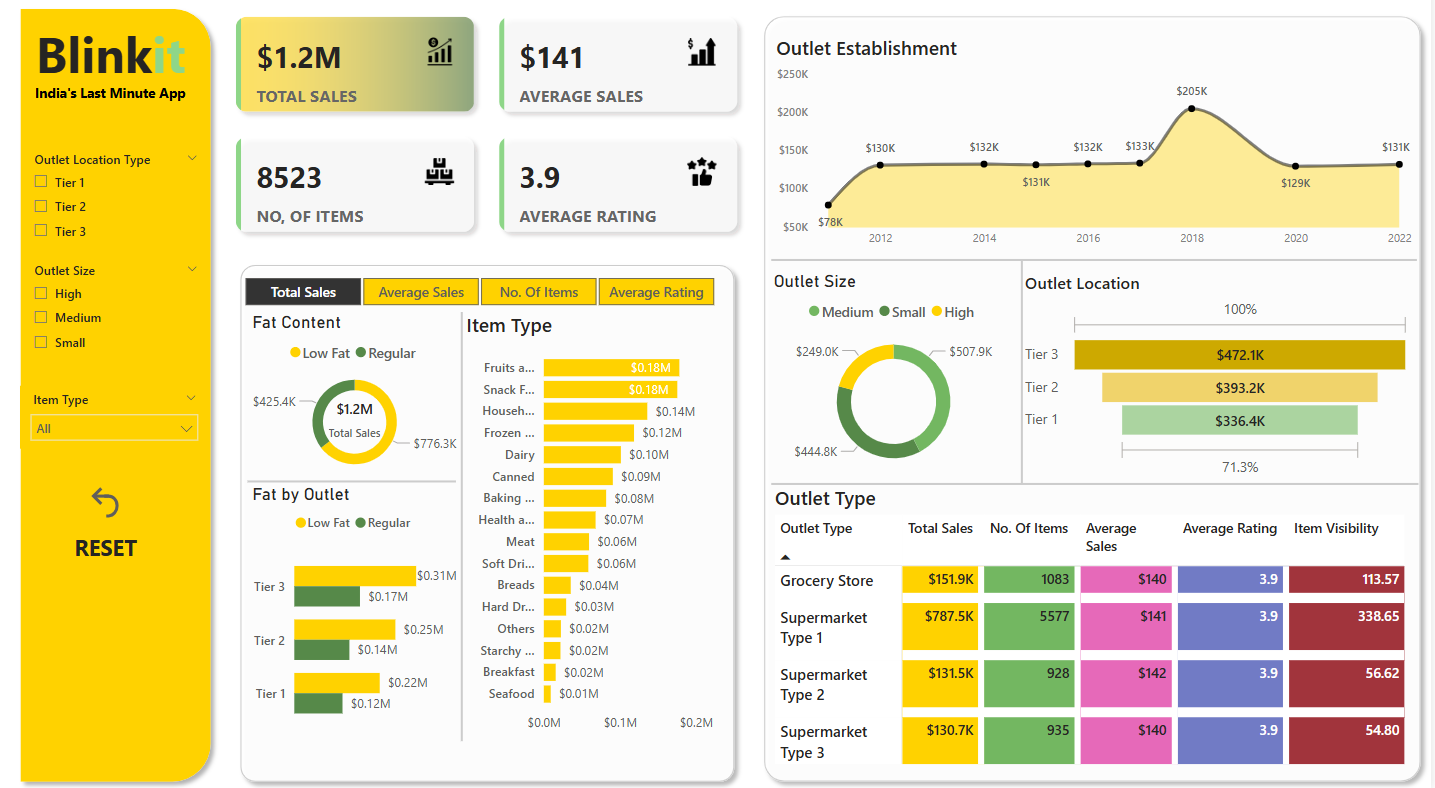

What the dashboard file says about the page in this screenshot:
{"tool":"powerbi","page":{"name":"Page 1","canvas":[1400,801],"ordinal":0},"visuals":[{"type":"shape","box":[10.5,27,204.1,774.4],"z":0},{"type":"textbox","box":[25.5,42,165.1,81],"z":1000},{"type":"textbox","box":[10.5,103.6,193.6,40.5],"z":2000},{"type":"cardVisual","fields":{"Data":["BlinkIT Grocery Data.Total Sales","BlinkIT Grocery Data.Average Sales","BlinkIT Grocery Data.No. Of Items","BlinkIT Grocery Data.Average Rating"]},"box":[214.6,27,525.3,244.6],"z":3000},{"type":"shape","box":[226.6,277.7,501.3,523.8],"z":4000},{"type":"donutChart","title":"Fat Content","fields":{"Y":["BlinkIT Grocery Data.Total Sales"],"Category":["BlinkIT Grocery Data.Item Fat Content"]},"box":[241.6,333.2,210.1,166.6],"z":5000},{"type":"cardVisual","fields":{"Data":["BlinkIT Grocery Data.Total Sales"]},"box":[303.2,400.7,87.1,66],"z":6000},{"type":"slicer","fields":{"Values":["Metrics.Metrics"]},"box":[214.6,292.7,508.8,40.5],"z":7000},{"type":"clusteredBarChart","title":"Fat by Outlet","fields":{"Y":["BlinkIT Grocery Data.Total Sales"],"Category":["BlinkIT Grocery Data.Outlet Location Type"],"Series":["BlinkIT Grocery Data.Item Fat Content"]},"box":[241.6,499.8,210.1,253.6],"z":8000},{"type":"shape","box":[241.6,478.8,204.1,40.5],"z":9000},{"type":"shape","box":[349.7,333.2,204.1,420.2],"z":10000},{"type":"barChart","title":"Item Type","fields":{"Y":["BlinkIT Grocery Data.Total Sales"],"Category":["BlinkIT Grocery Data.Item Type"]},"box":[451.8,333.2,271.7,420.2],"z":11000},{"type":"shape","box":[738.4,34.5,660.4,766.9],"z":12000},{"type":"lineChart","title":"Outlet Establishment","fields":{"Category":["BlinkIT Grocery Data.Outlet Establishment Year"],"Y":["BlinkIT Grocery Data.Total Sales"]},"box":[754.9,61.5,631.9,216.1],"z":13000},{"type":"shape","box":[754.9,249.1,631.9,64.5],"z":14000},{"type":"donutChart","title":"Outlet Size","fields":{"Y":["BlinkIT Grocery Data.Total Sales"],"Category":["BlinkIT Grocery Data.Outlet Size"]},"box":[751.9,292.7,244.6,207.1],"z":15000},{"type":"funnel","title":"Outlet Location","fields":{"Y":["BlinkIT Grocery Data.Total Sales"],"Category":["BlinkIT Grocery Data.Outlet Location Type"]},"box":[998.1,292.7,387.2,207.1],"z":16000},{"type":"shape","box":[754.9,480.3,633.4,40.5],"z":17000},{"type":"shape","box":[983.1,282.2,33,217.6],"z":18000},{"type":"pivotTable","title":"Outlet Type","fields":{"Rows":["BlinkIT Grocery Data.Outlet Type"],"Values":["BlinkIT Grocery Data.Total Sales","BlinkIT Grocery Data.No. Of Items","BlinkIT Grocery Data.Average Sales","BlinkIT Grocery Data.Average Rating","Sum(BlinkIT Grocery Data.Item Visibility)"]},"box":[753.4,501.3,646.9,289.7],"z":19000},{"type":"slicer","fields":{"Values":["BlinkIT Grocery Data.Outlet Location Type"]},"box":[21,169.6,184.6,102.1],"z":20000},{"type":"slicer","fields":{"Values":["BlinkIT Grocery Data.Outlet Size"]},"box":[21,279.2,184.6,112.6],"z":21000},{"type":"slicer","fields":{"Values":["BlinkIT Grocery Data.Item Type"]},"box":[19.5,405.2,184.6,61.5],"z":22000},{"type":"actionButton","box":[83.4,499.3,46.4,39.7],"z":23000},{"type":"textbox","box":[60.9,543,84.8,50.3],"z":24000}]}

Visuals, with their boxes on the page's 1400x801 design canvas (x1, y1, x2, y2). These are canvas units, not pixel positions in the 1435x788 screenshot, which may show the page scaled, cropped or inside an application window:
shape: (10, 27, 215, 801)
textbox: (26, 42, 191, 123)
textbox: (10, 104, 204, 144)
cardVisual - BlinkIT Grocery Data.Total Sales x BlinkIT Grocery Data.Average Sales: (215, 27, 740, 272)
shape: (227, 278, 728, 802)
"Fat Content" donutChart: (242, 333, 452, 500)
cardVisual - BlinkIT Grocery Data.Total Sales: (303, 401, 390, 467)
slicer - Metrics.Metrics: (215, 293, 723, 333)
"Fat by Outlet" clusteredBarChart: (242, 500, 452, 753)
shape: (242, 479, 446, 519)
shape: (350, 333, 554, 753)
"Item Type" barChart: (452, 333, 724, 753)
shape: (738, 34, 1399, 801)
"Outlet Establishment" lineChart: (755, 62, 1387, 278)
shape: (755, 249, 1387, 314)
"Outlet Size" donutChart: (752, 293, 996, 500)
"Outlet Location" funnel: (998, 293, 1385, 500)
shape: (755, 480, 1388, 521)
shape: (983, 282, 1016, 500)
"Outlet Type" pivotTable: (753, 501, 1400, 791)
slicer - BlinkIT Grocery Data.Outlet Location Type: (21, 170, 206, 272)
slicer - BlinkIT Grocery Data.Outlet Size: (21, 279, 206, 392)
slicer - BlinkIT Grocery Data.Item Type: (20, 405, 204, 467)
actionButton: (83, 499, 130, 539)
textbox: (61, 543, 146, 593)
